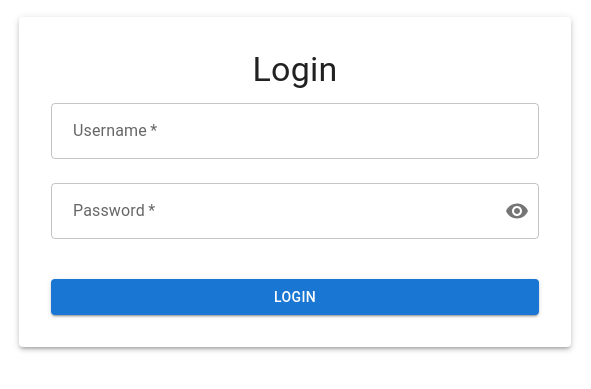
Scenario: Login Component › displays error message when provided
Type "testuser" into the field labelled "Username *" at (295, 131), box [51,103,539,159]
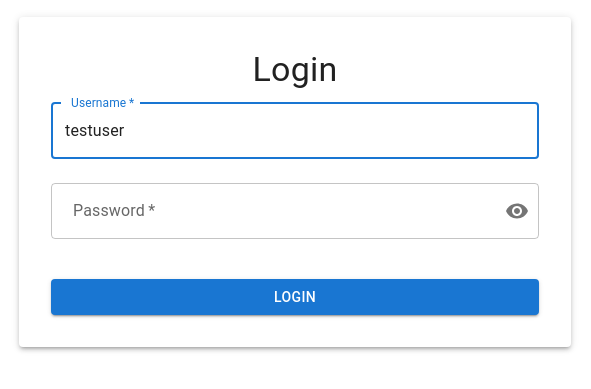
Type "testpass" into the password field labelled "Password *" at (270, 211), box [51,183,489,239]
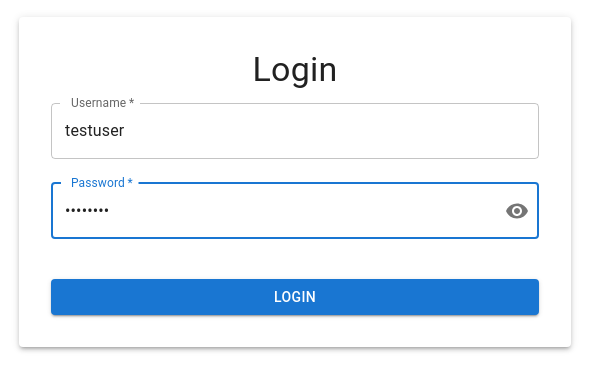
Click the button "Login" at (295, 297), box [51,279,539,315]
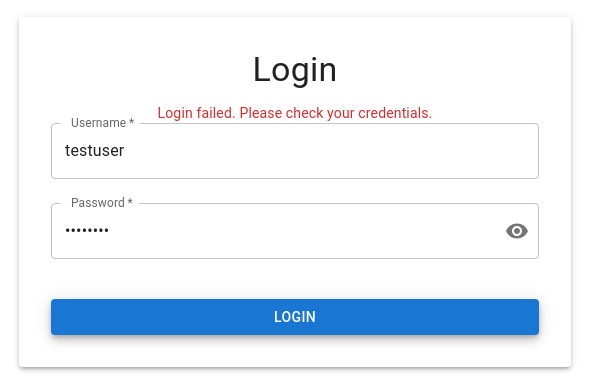
Expected: the text "Login failed. Please check your credentials." is shown, [158,105,432,121]
